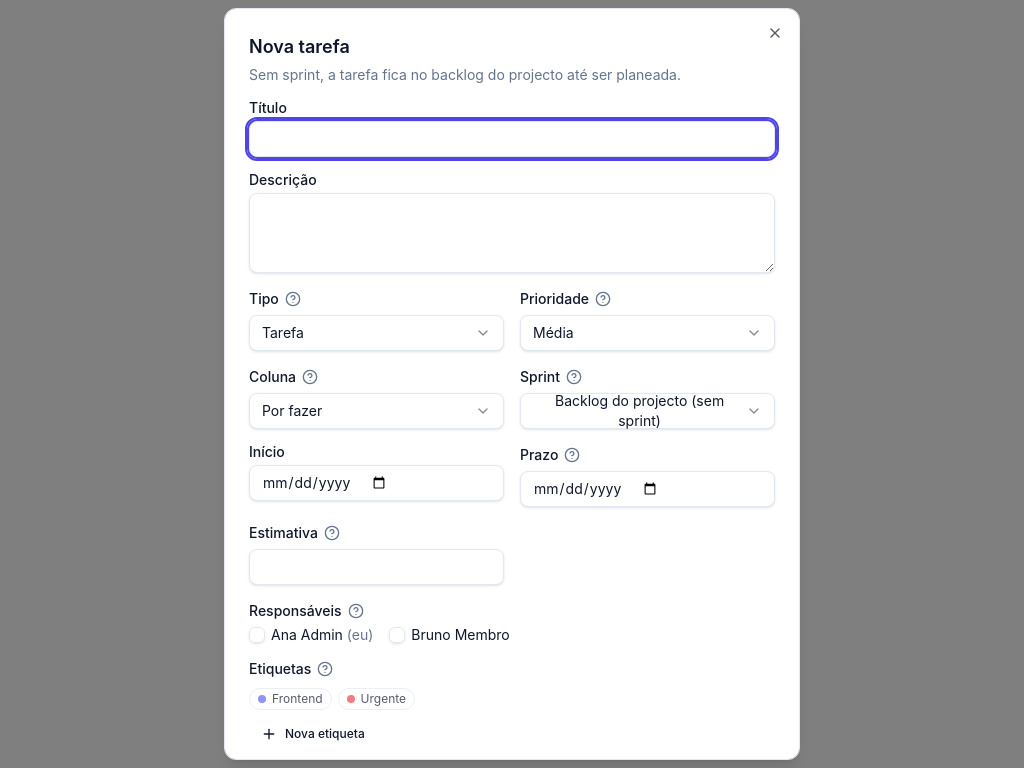
Test case: TaskFormDialog: criar tarefa › não deixa escolher sprints concluídos
Step 1. Click the dropdown labelled "Backlog do projecto (sem sprint)" → click(648, 411), box [520,393,775,429]
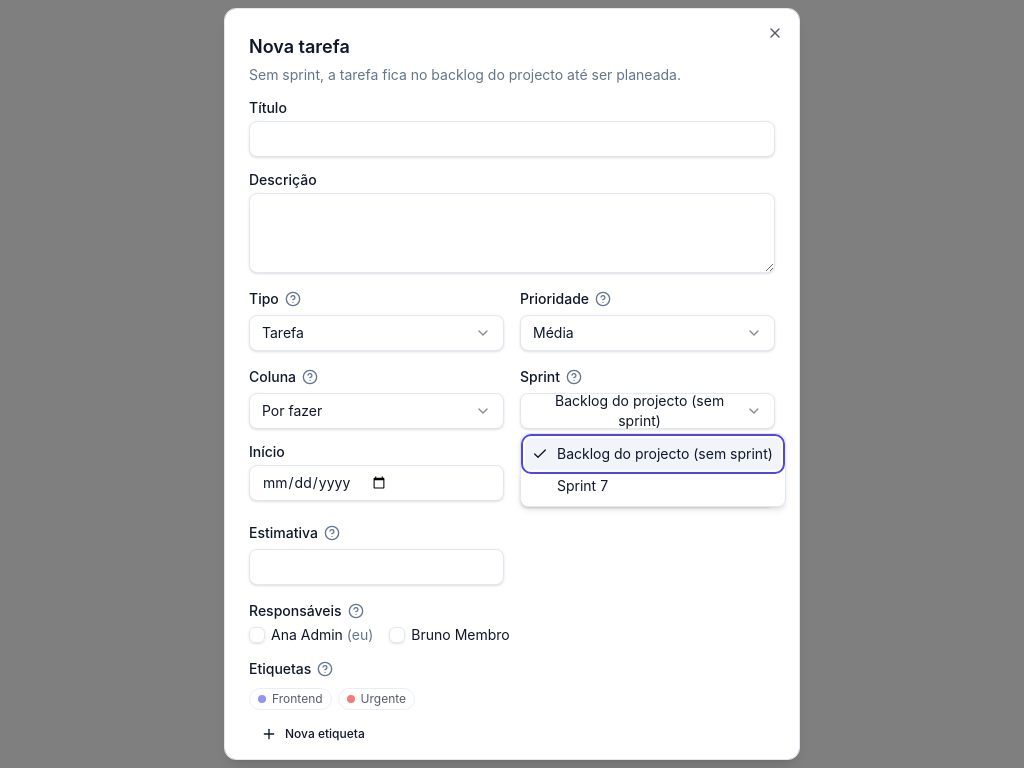
Expected: the options read "Backlog do projecto (sem sprint)", "Sprint 7", in this order, [525,438,781,470]; [557,477,608,494]
